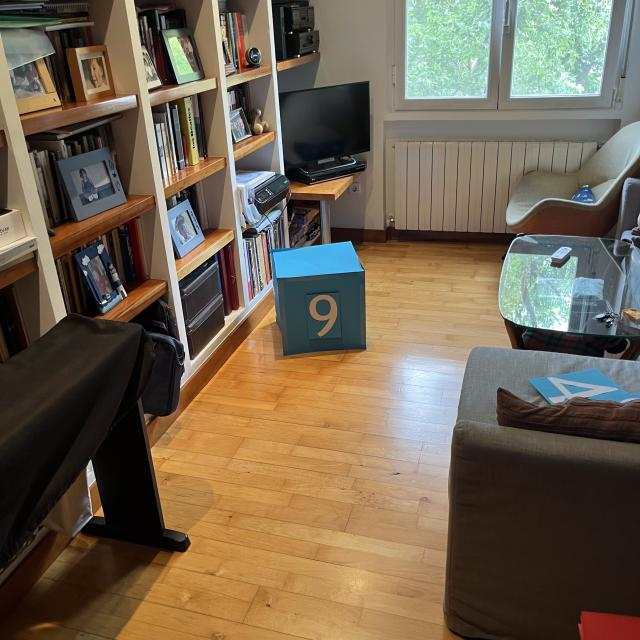box: (266, 236, 371, 358)
